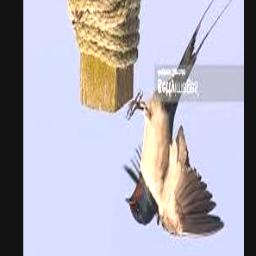Swallow: (123, 0, 239, 238)
